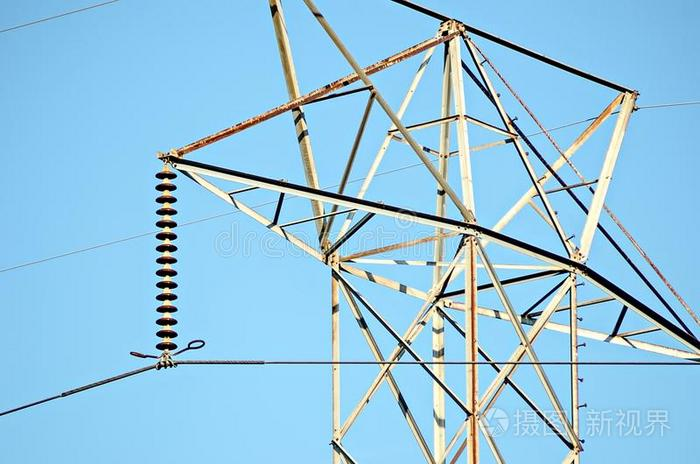insulator: (151, 169, 179, 351)
